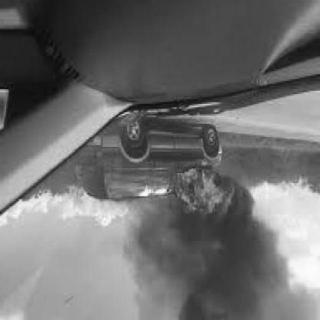Fire: (169, 169, 239, 227)
Smoke: (132, 227, 310, 317)
